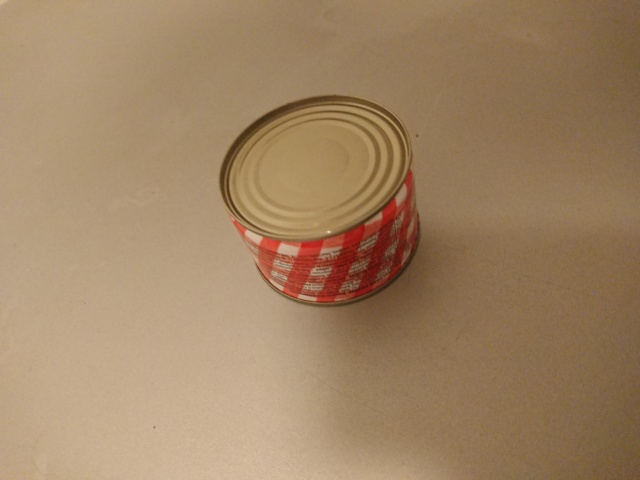Podravka Luncheon Meat 150g: (216, 92, 425, 310)
